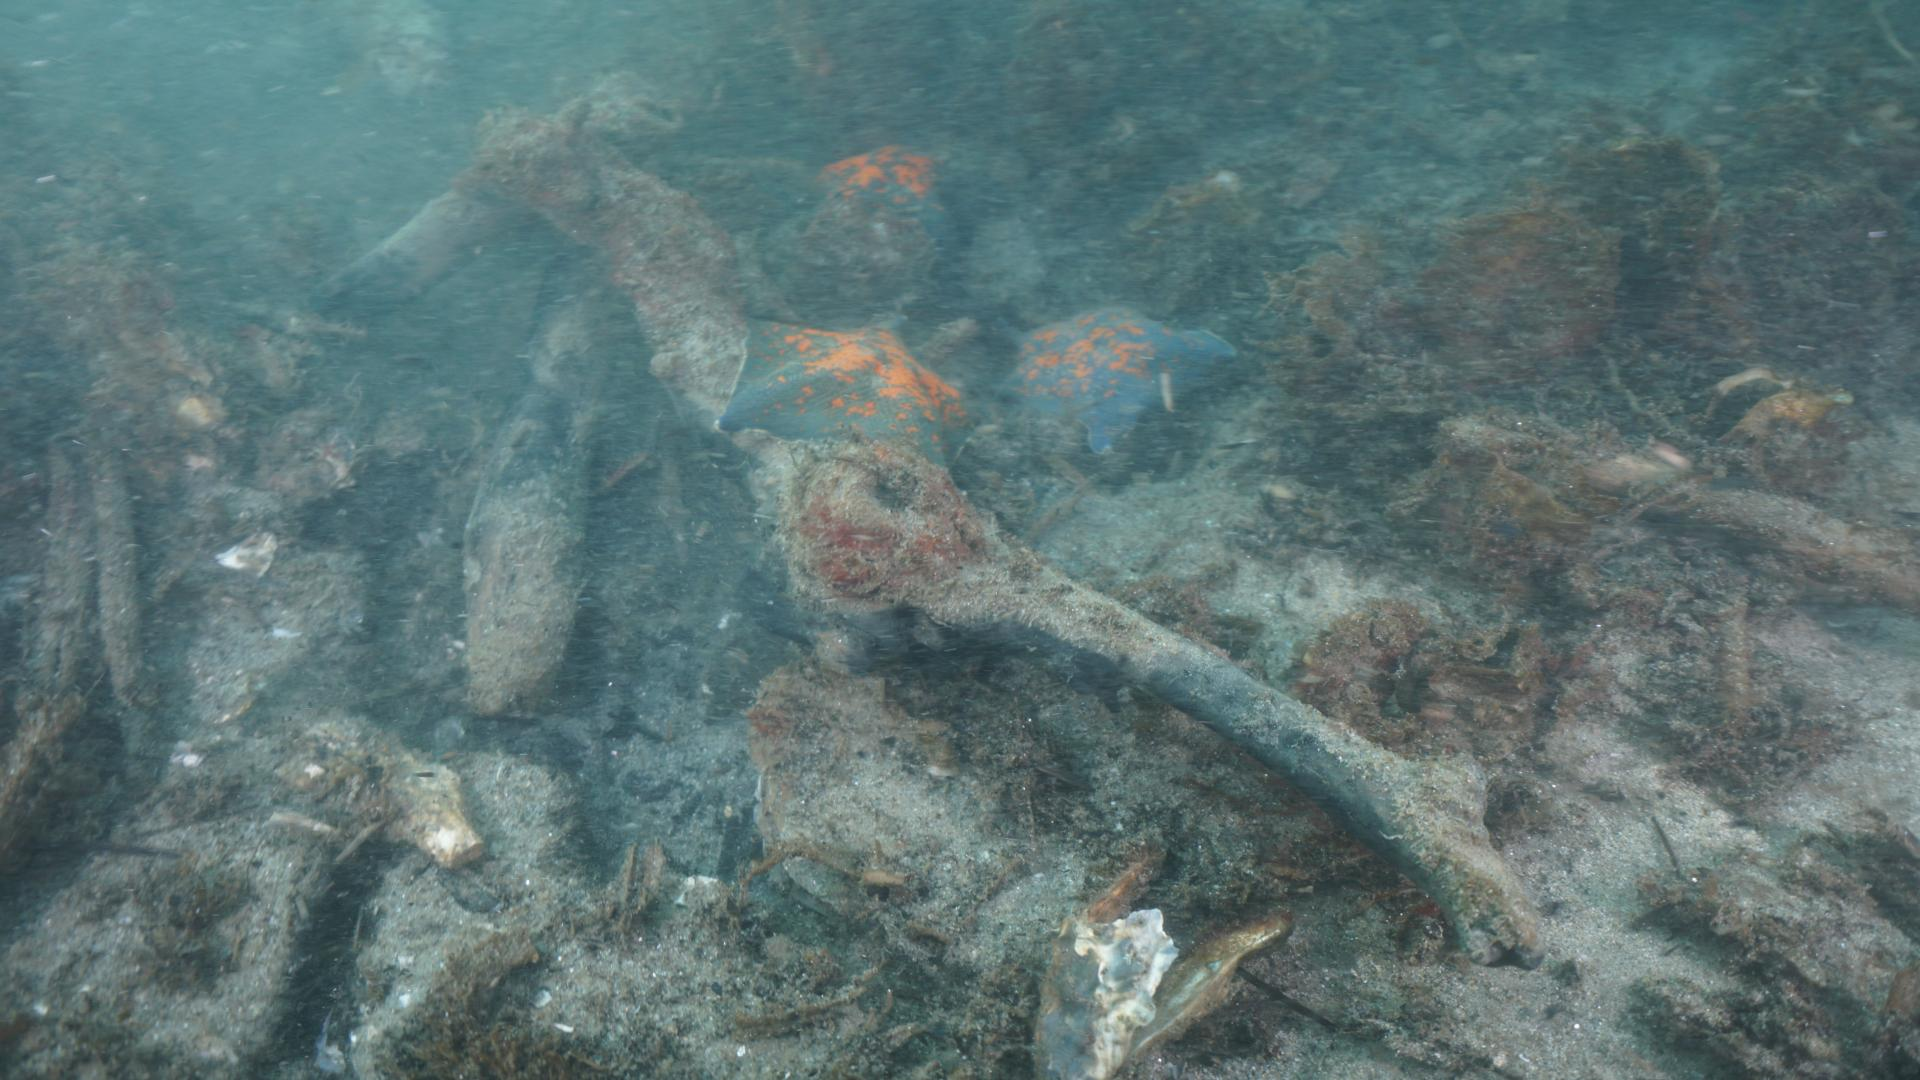wood: (440, 94, 1540, 971), (456, 245, 625, 717), (0, 438, 164, 887), (1578, 433, 1920, 622)
